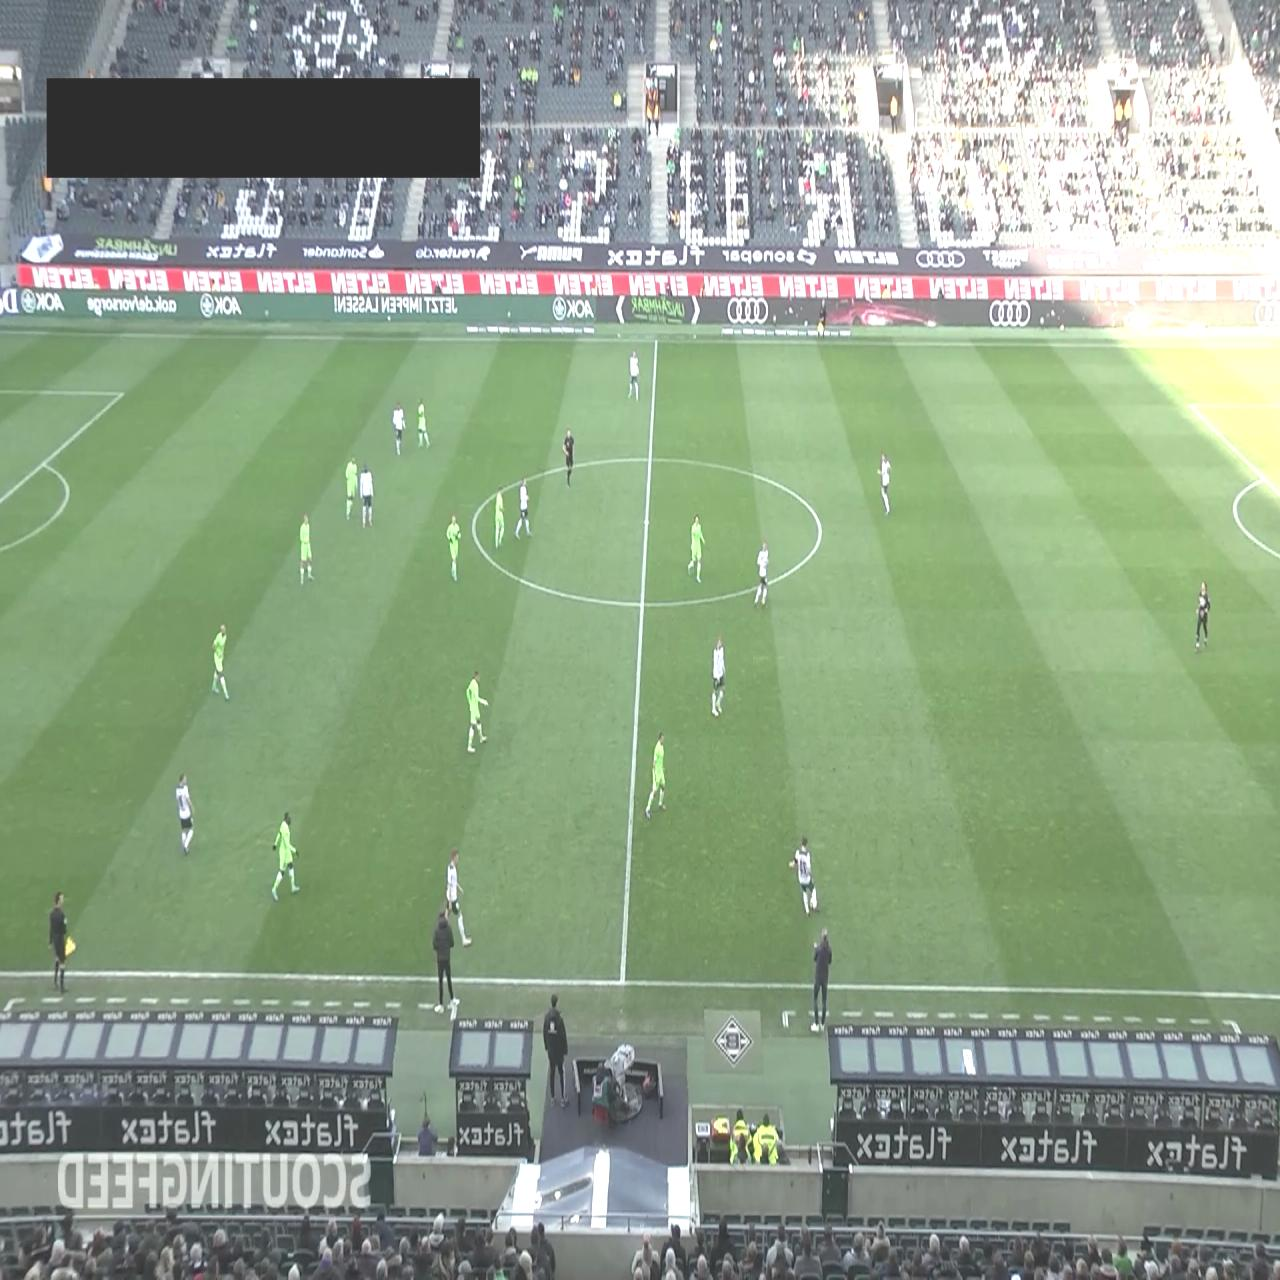ball: (810, 896, 818, 912)
player: (445, 848, 472, 948), (271, 809, 300, 901), (790, 834, 818, 918), (645, 730, 666, 819), (466, 668, 488, 752), (175, 770, 195, 856), (211, 623, 230, 701), (1194, 581, 1212, 653), (711, 634, 726, 717), (688, 513, 706, 582), (753, 539, 770, 607), (515, 476, 533, 540), (298, 512, 314, 584), (446, 513, 461, 582), (359, 462, 374, 528), (878, 450, 891, 516), (345, 455, 358, 520), (392, 398, 406, 456), (416, 399, 431, 448), (494, 486, 505, 549), (628, 347, 640, 401)
referee: (49, 891, 76, 991), (562, 427, 575, 487), (817, 301, 826, 337)
